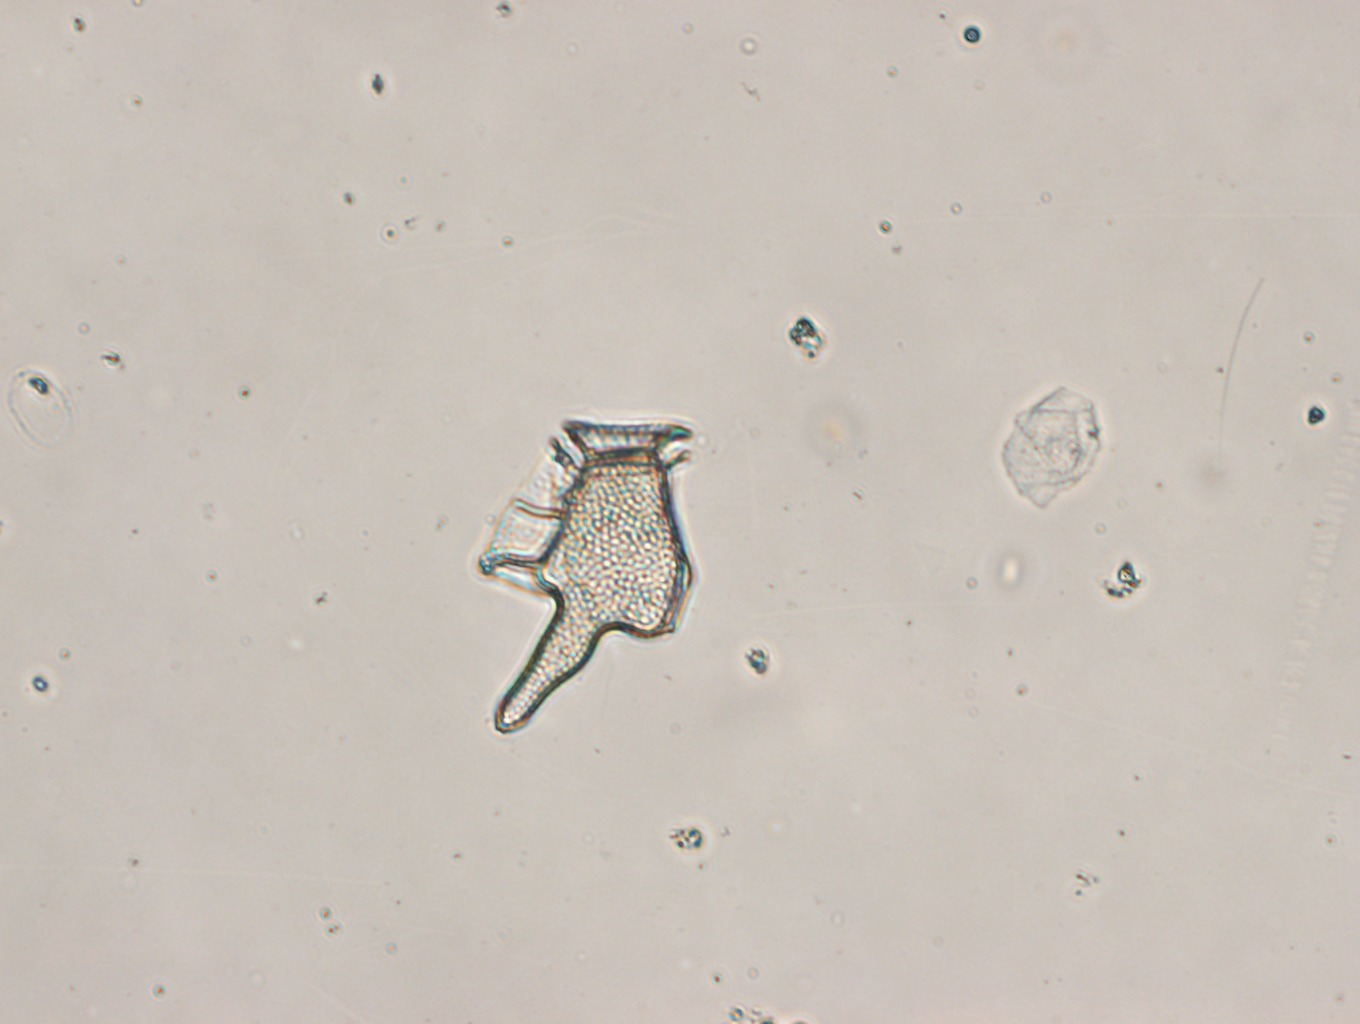dinophysis caudata: (477, 417, 691, 735)
